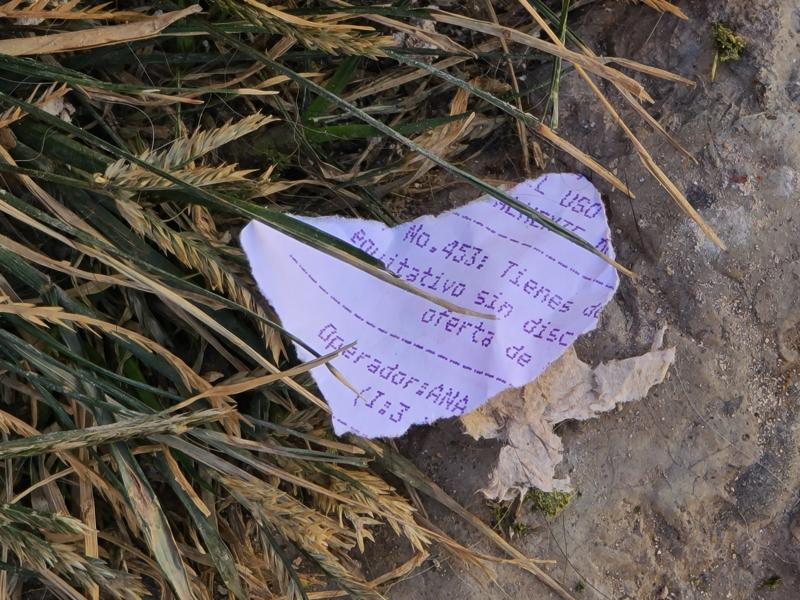papel: (237, 173, 621, 441)
